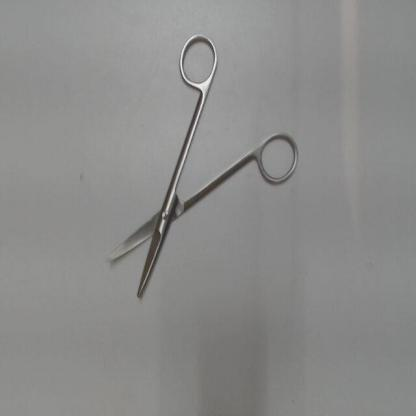Curved Mayo Scissors: (100, 27, 304, 308)
